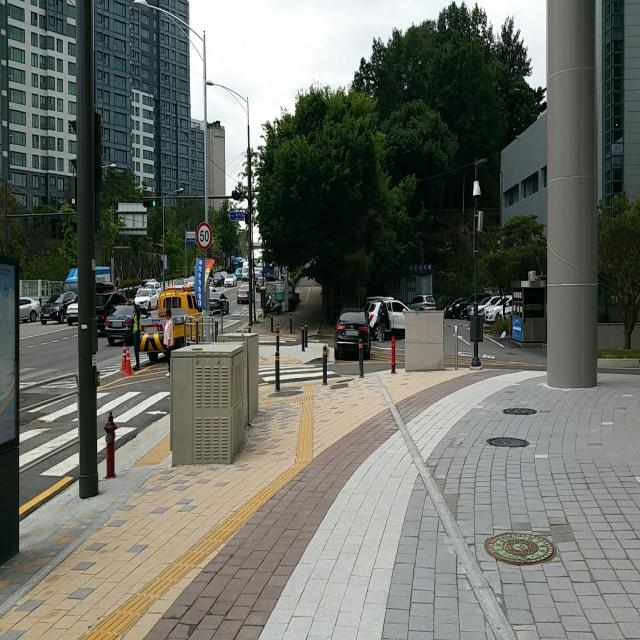횡단보도: (19, 389, 170, 476), (258, 363, 338, 383)
